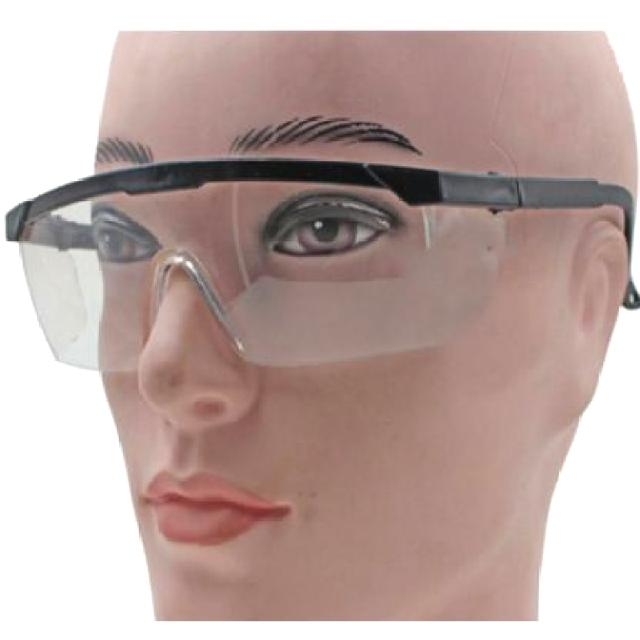face_nomask: (69, 165, 389, 568)
glasses: (1, 155, 639, 373)
